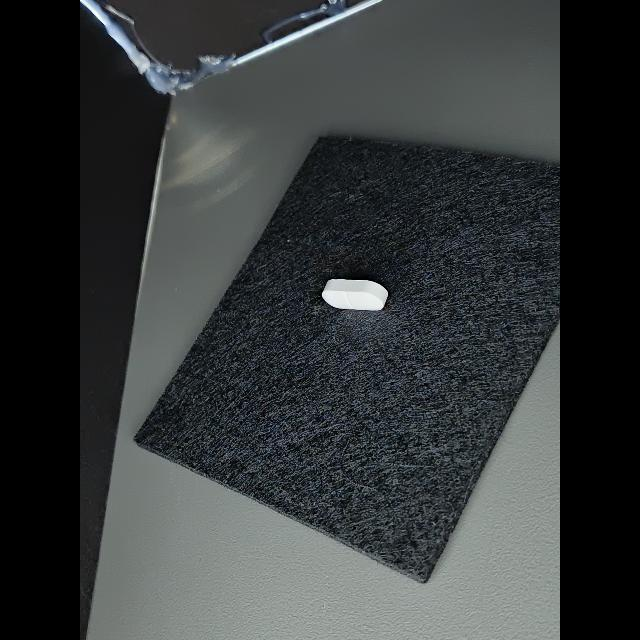Intact Pill: (322, 279, 388, 311)
